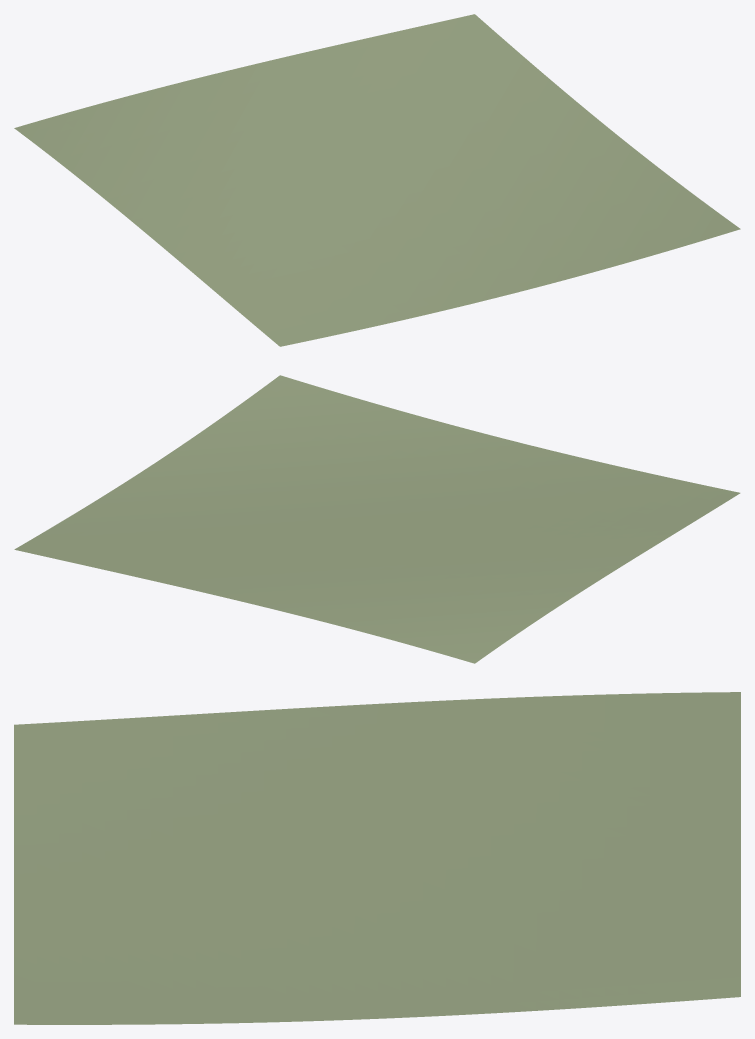
File: alpine-0-11.glb
3 views of the same model, one above another, from view 1: azimuth 30°, elevation 25°; view 2: azimuth 150°, elevation 25°; view 3: azimuth 270°, elevation 25° (orthographic). The views are drawn at different scales.
Parts seen in each view (by area): view 1: alpine-0-11; view 2: alpine-0-11; view 3: alpine-0-11.
Boxes of the visible parts, box(x1,y1,x2,y2) form: alpine-0-11: box(14, 14, 740, 346); alpine-0-11: box(14, 375, 740, 663); alpine-0-11: box(14, 692, 740, 1024).
Size of the model in its own units: 256 by 17.53 by 256.
